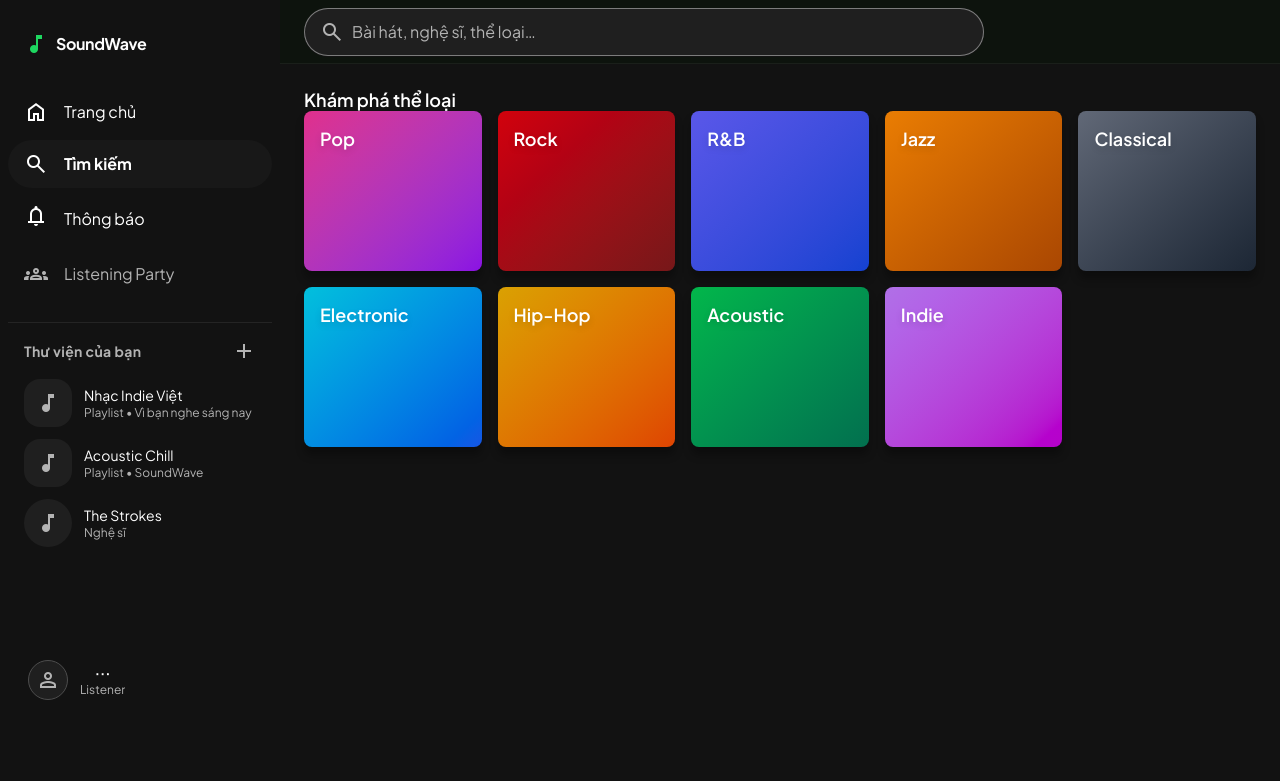
it: SearchPage — filter tabs › clicking "Tất cả" after "Bài hát" restores full results
The image size is (1280, 781).
Type "sơn" into the field named "tìm kiếm" at (644, 32), box [304,8,984,56]
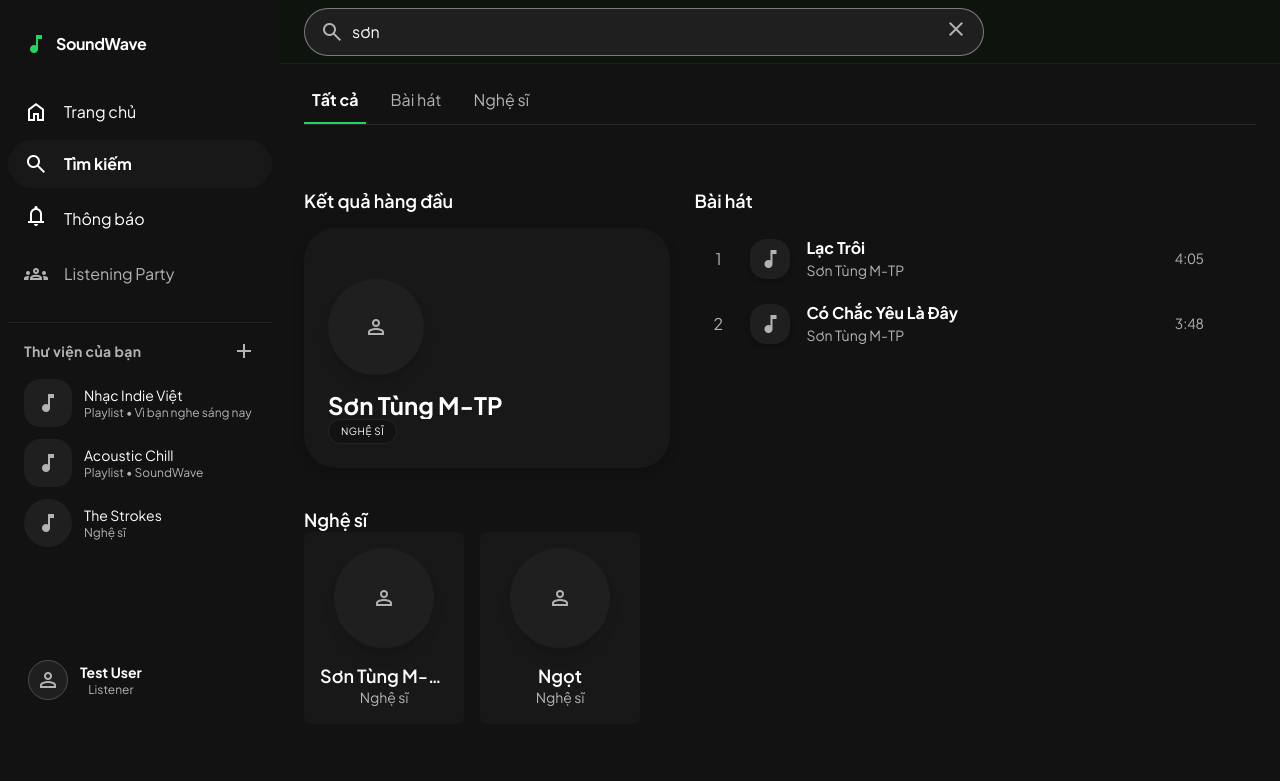
Now the tab with test id "filter-tab-songs" is shown
Click the tab with test id "filter-tab-songs" at (416, 106), box [382,88,449,124]
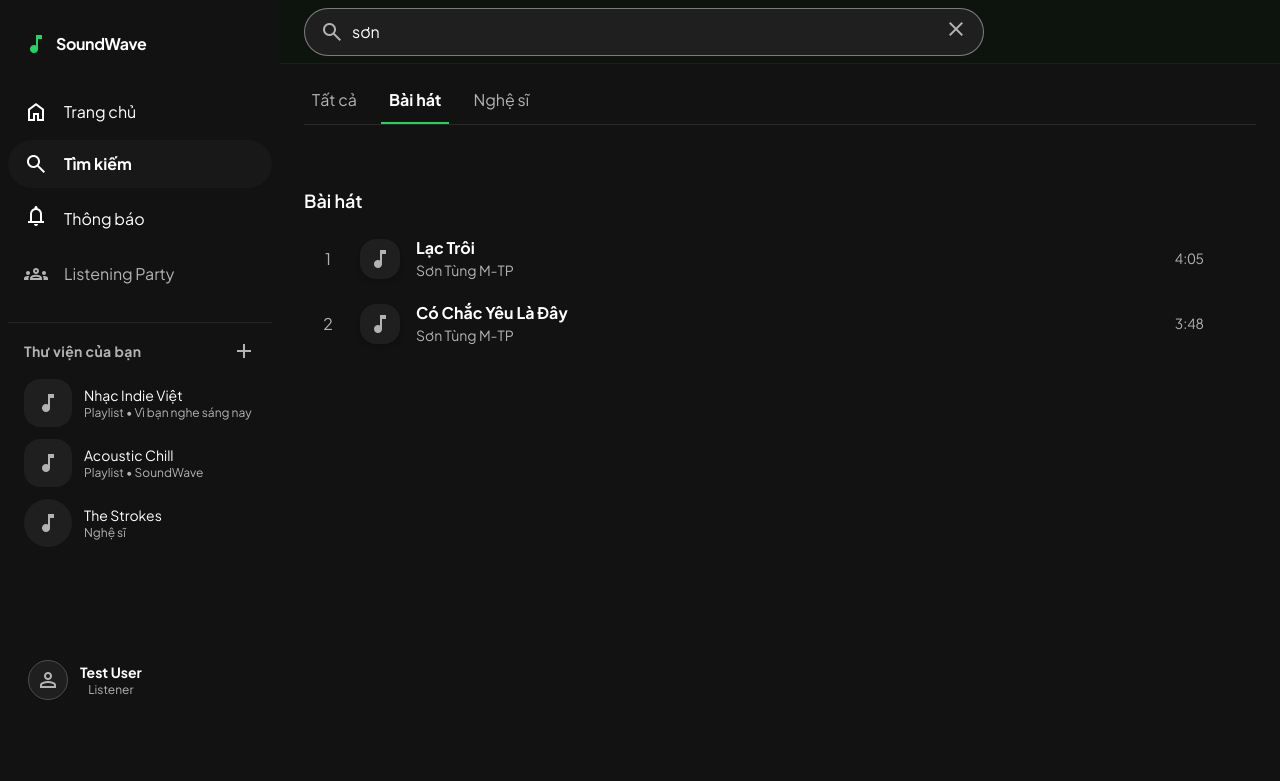
Click the tab with test id "filter-tab-all" at (334, 106), box [304,88,365,124]
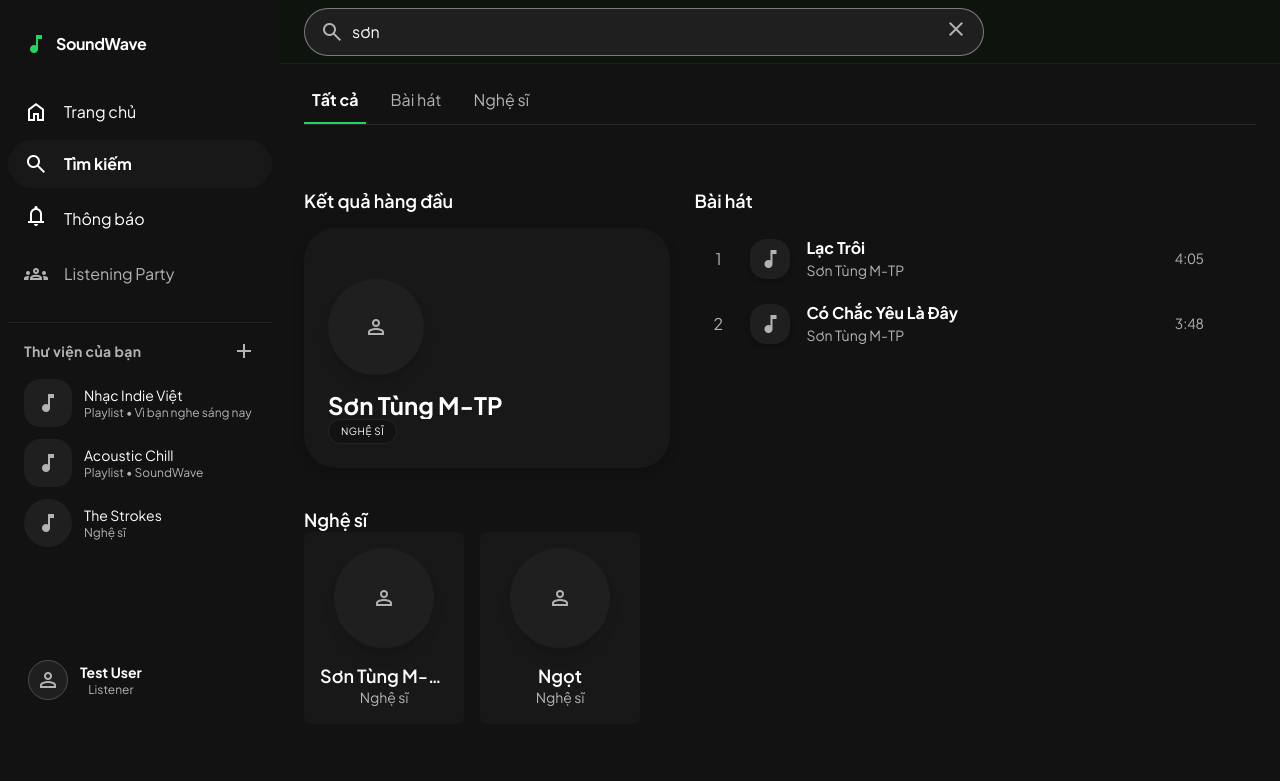
Now the element with test id "song-row-song-001" is shown, box [694,228,1256,289]
Now the element with test id "artists-section" is shown, box [304,508,640,724]
